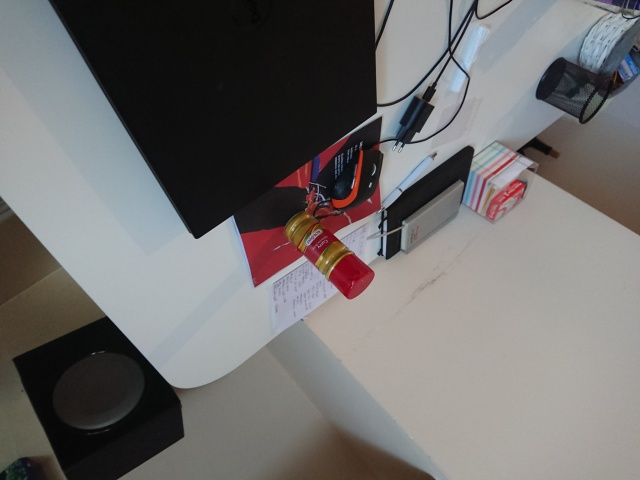Kotanyi Curry Spices Mix 70g: (282, 208, 377, 302)
